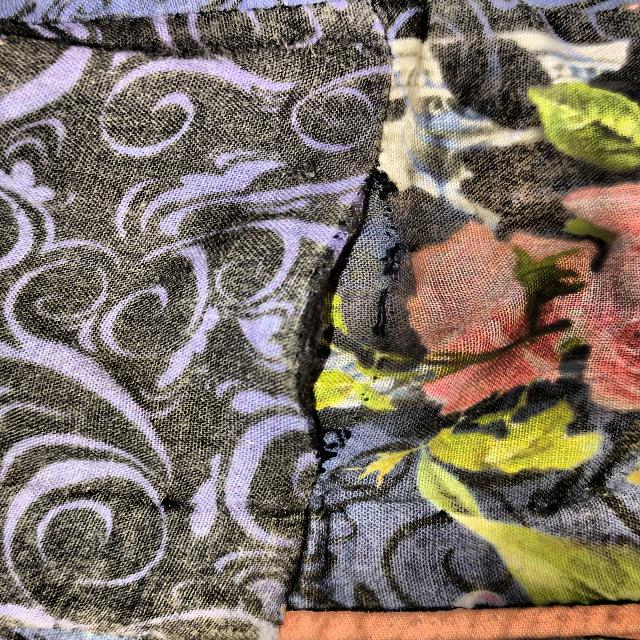seam: (277, 128, 439, 488)
